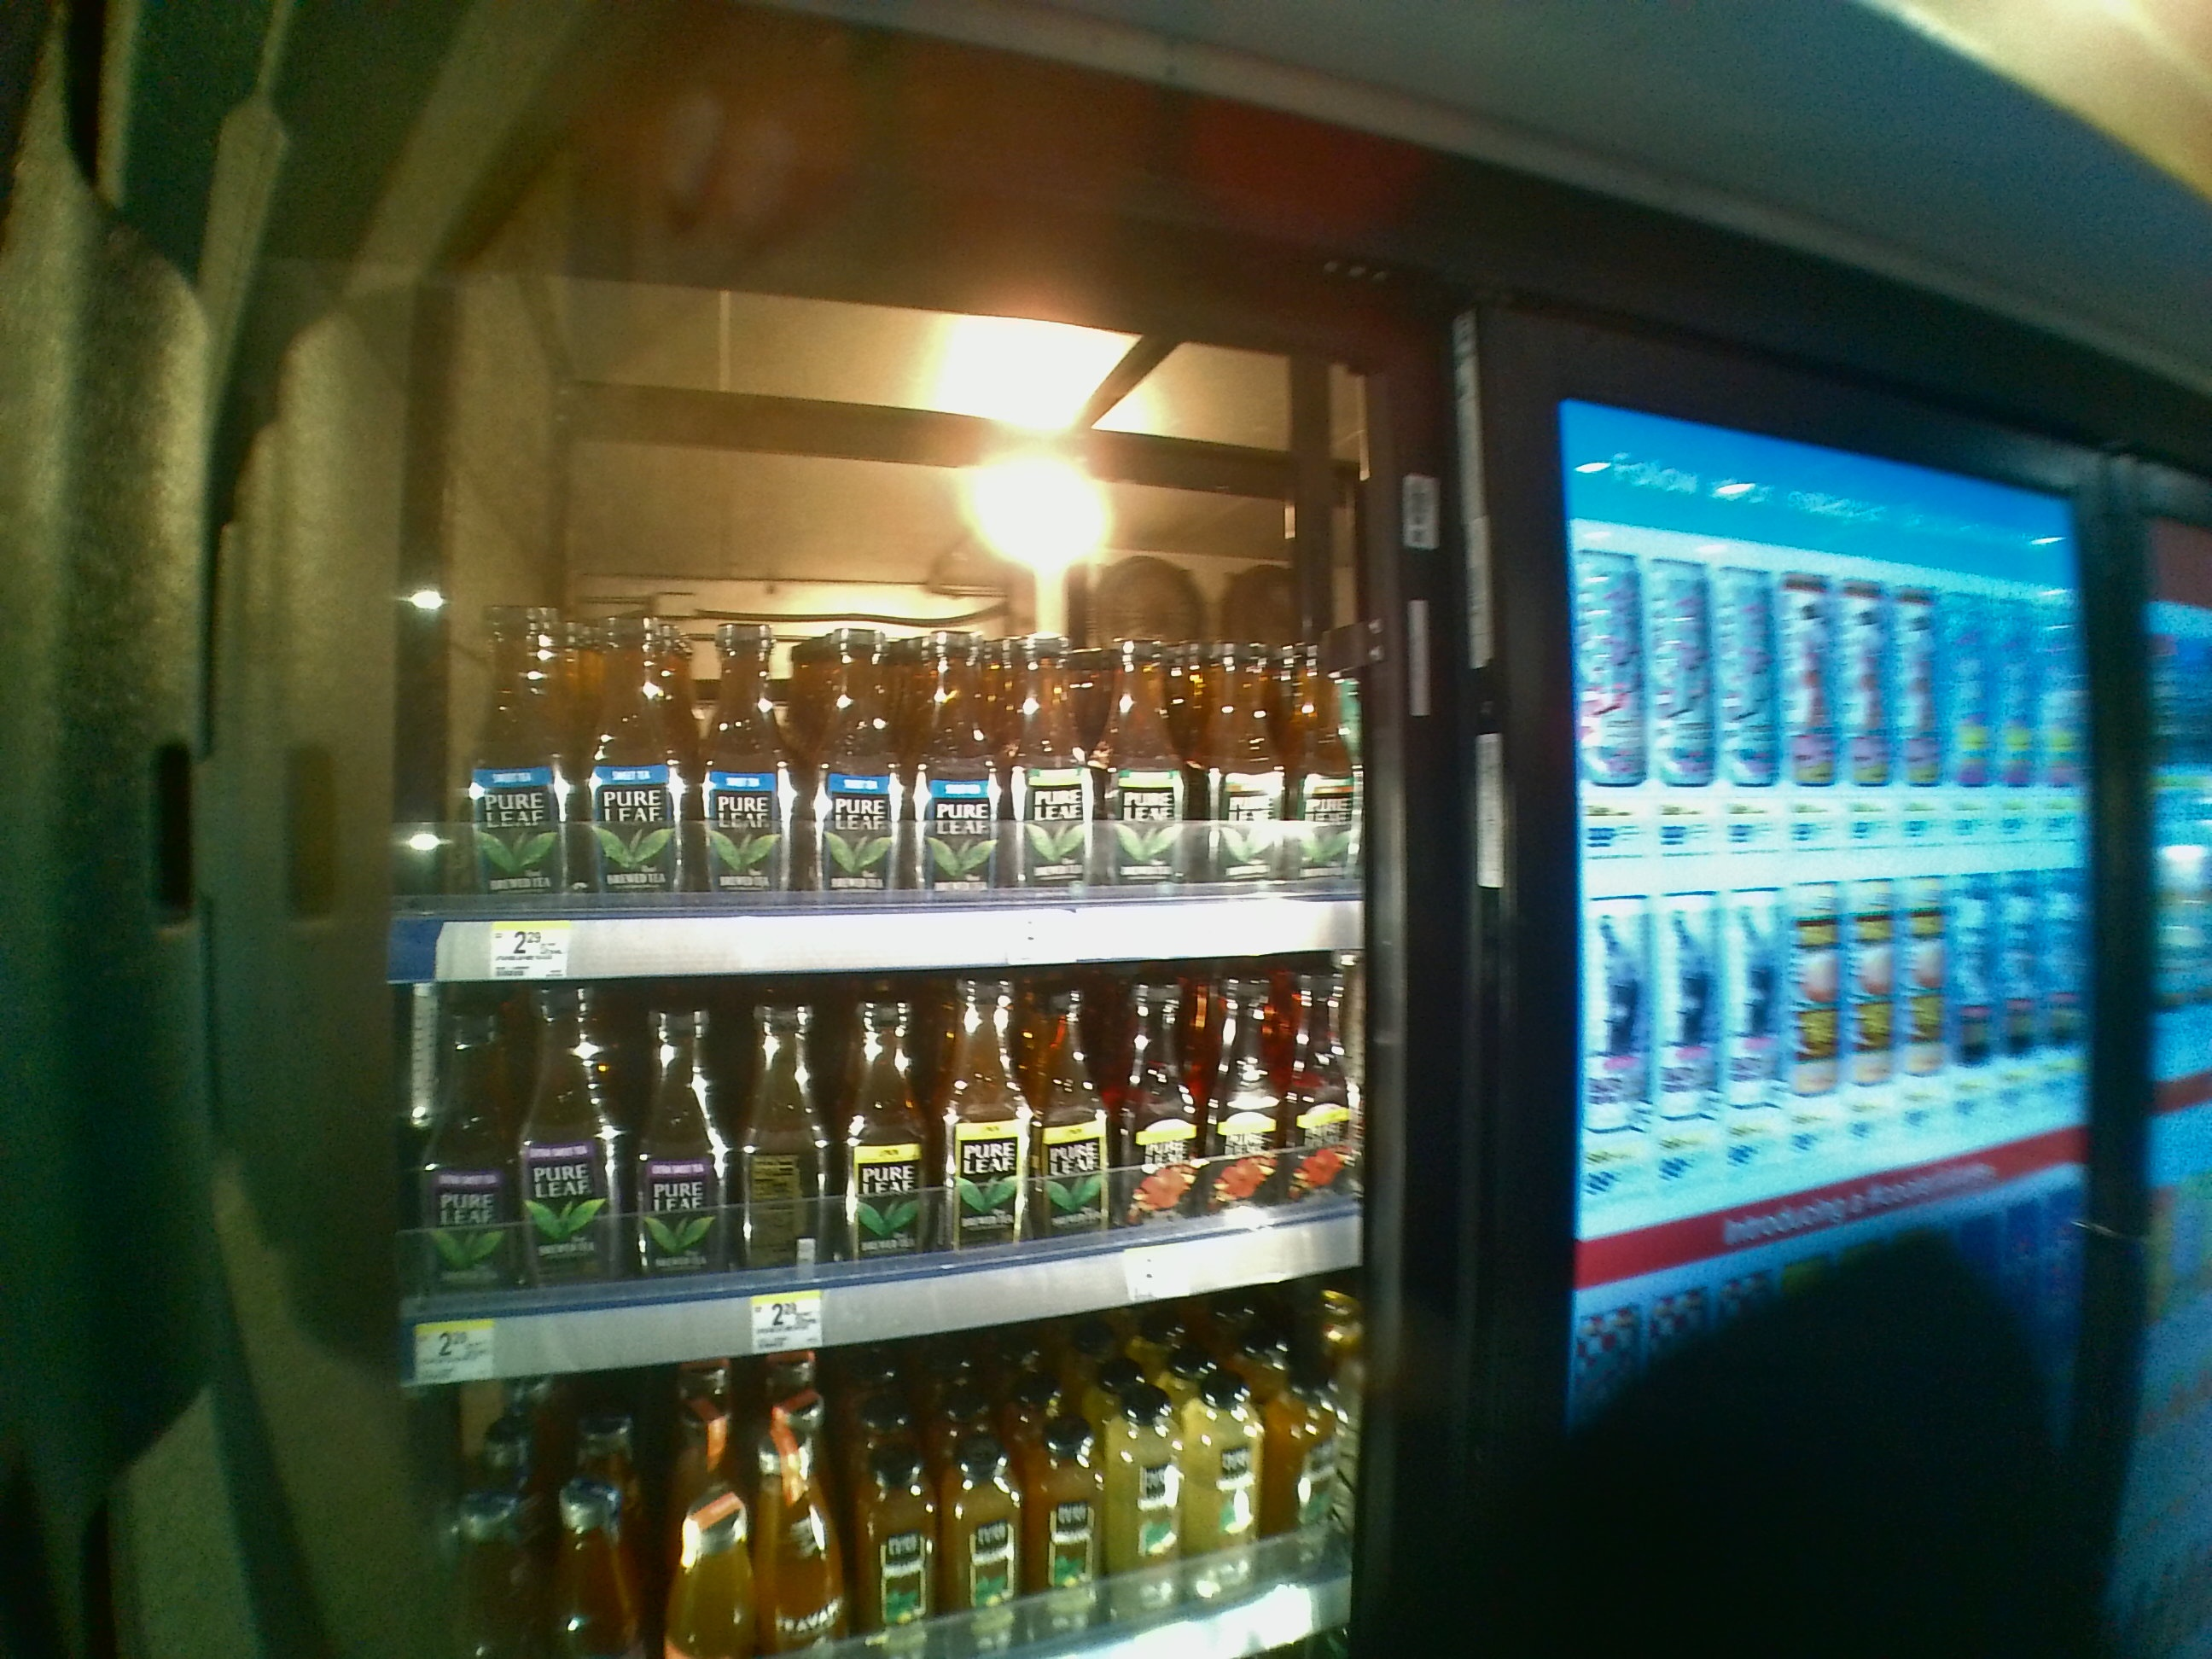shelf: (392, 342, 1360, 978), (394, 974, 1367, 1373)
